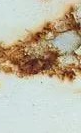Corrosion: (1, 4, 81, 83)
